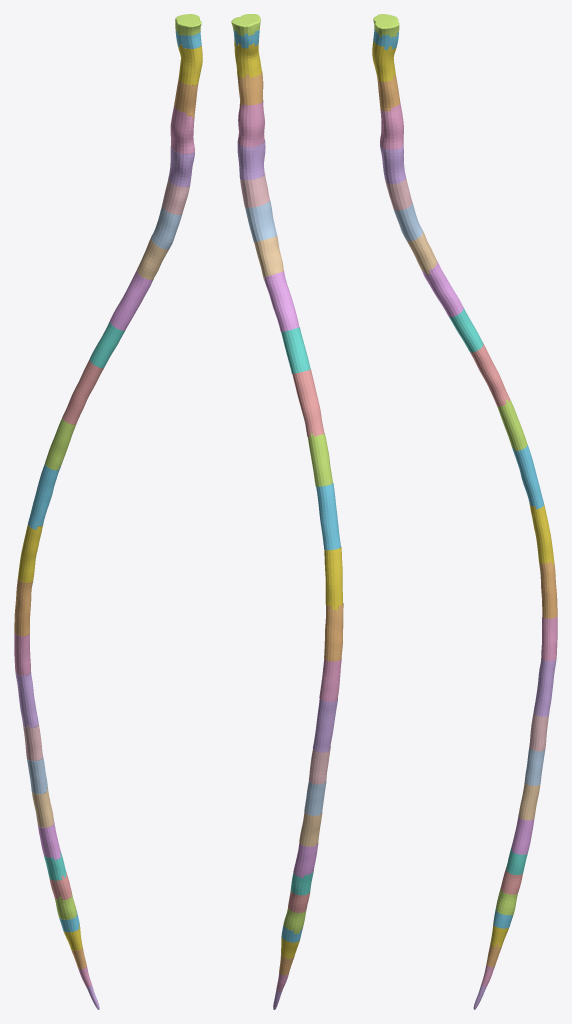
Rendered from organ-spinal-cord.glb.
3 views of the same model, side by side, from view 1: azimuth 90°, elevation 25°; view 2: azimuth 210°, elevation 25°; view 3: azimuth 270°, elevation 25° (orthographic). The views are drawn at different scales.
Visible parts, largest first — view 1: second-thoracic-spinal-cord-segment, fourth-thoracic-spinal-cord-segment, sixth-thoracic-spinal-cord-segment, c5-segment-of-cervical-spinal-cord, seventh-thoracic-spinal-cord-segment, eighth-thoracic-spinal-cord-segment, tenth-thoracic-spinal-cord-segment, c3-segment-of-cervical-spinal-cord, fifth-thoracic-spinal-cord-segment, c8-segment-of-cervical-spinal-cord, c6-segment-of-cervical-spinal-cord, third-thoracic-spinal-cord-segment (+9 smaller); view 2: fourth-thoracic-spinal-cord-segment, second-thoracic-spinal-cord-segment, sixth-thoracic-spinal-cord-segment, c5-segment-of-cervical-spinal-cord, seventh-thoracic-spinal-cord-segment, eighth-thoracic-spinal-cord-segment, fifth-thoracic-spinal-cord-segment, tenth-thoracic-spinal-cord-segment, c8-segment-of-cervical-spinal-cord, c6-segment-of-cervical-spinal-cord, third-thoracic-spinal-cord-segment, first-thoracic-spinal-cord-segment (+13 smaller); view 3: second-thoracic-spinal-cord-segment, fourth-thoracic-spinal-cord-segment, sixth-thoracic-spinal-cord-segment, c5-segment-of-cervical-spinal-cord, tenth-thoracic-spinal-cord-segment, seventh-thoracic-spinal-cord-segment, eighth-thoracic-spinal-cord-segment, fifth-thoracic-spinal-cord-segment, c6-segment-of-cervical-spinal-cord, c3-segment-of-cervical-spinal-cord, third-thoracic-spinal-cord-segment, ninth-thoracic-spinal-cord-segment (+9 smaller).
Boxes of the visible parts, <box> form: second-thoracic-spinal-cord-segment: <box>110,270,153,330</box>; fourth-thoracic-spinal-cord-segment: <box>62,359,103,424</box>; sixth-thoracic-spinal-cord-segment: <box>28,464,60,529</box>; c5-segment-of-cervical-spinal-cord: <box>170,105,194,153</box>; seventh-thoracic-spinal-cord-segment: <box>17,524,42,582</box>; eighth-thoracic-spinal-cord-segment: <box>14,578,32,636</box>; tenth-thoracic-spinal-cord-segment: <box>15,669,38,728</box>; c3-segment-of-cervical-spinal-cord: <box>177,42,202,85</box>; fifth-thoracic-spinal-cord-segment: <box>45,417,76,470</box>; c8-segment-of-cervical-spinal-cord: <box>151,206,182,249</box>; c6-segment-of-cervical-spinal-cord: <box>168,146,194,187</box>; third-thoracic-spinal-cord-segment: <box>89,321,124,368</box>; fourth-thoracic-spinal-cord-segment: <box>292,369,324,436</box>; second-thoracic-spinal-cord-segment: <box>264,271,299,331</box>; sixth-thoracic-spinal-cord-segment: <box>316,483,340,550</box>; c5-segment-of-cervical-spinal-cord: <box>237,100,264,147</box>; seventh-thoracic-spinal-cord-segment: <box>324,547,342,609</box>; eighth-thoracic-spinal-cord-segment: <box>324,603,343,661</box>; fifth-thoracic-spinal-cord-segment: <box>307,433,332,486</box>; tenth-thoracic-spinal-cord-segment: <box>313,699,337,752</box>; c8-segment-of-cervical-spinal-cord: <box>245,200,276,241</box>; c6-segment-of-cervical-spinal-cord: <box>237,140,265,179</box>; third-thoracic-spinal-cord-segment: <box>281,327,310,373</box>; first-thoracic-spinal-cord-segment: <box>254,236,283,280</box>; second-thoracic-spinal-cord-segment: <box>422,261,463,317</box>; fourth-thoracic-spinal-cord-segment: <box>470,343,510,406</box>; sixth-thoracic-spinal-cord-segment: <box>512,445,544,509</box>; c5-segment-of-cervical-spinal-cord: <box>380,103,403,149</box>; tenth-thoracic-spinal-cord-segment: <box>533,658,556,716</box>; seventh-thoracic-spinal-cord-segment: <box>529,502,554,564</box>; eighth-thoracic-spinal-cord-segment: <box>539,562,557,618</box>; fifth-thoracic-spinal-cord-segment: <box>497,399,527,450</box>; c6-segment-of-cervical-spinal-cord: <box>380,143,405,183</box>; c3-segment-of-cervical-spinal-cord: <box>372,41,396,81</box>; third-thoracic-spinal-cord-segment: <box>449,307,483,352</box>; ninth-thoracic-spinal-cord-segment: <box>541,614,557,661</box>.
Bounding box in the file's own units: 0.0207 × 0.4652 × 0.0796.
